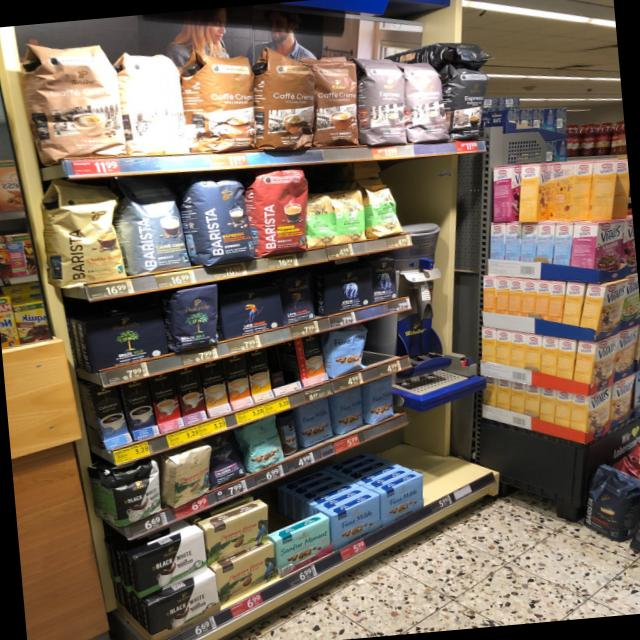AB Bohne: (370, 255, 399, 304)
AB Gemahlen: (324, 260, 376, 315)
Athiopien Bohne: (361, 180, 405, 240)
Athiopien Gemahlen: (303, 190, 342, 248), (336, 187, 368, 244)
BM Bohne: (166, 282, 222, 355)
BM Gemahlen: (85, 305, 170, 374)
BW Bohne: (98, 452, 168, 532)
BW Gemahlen: (127, 529, 209, 602), (145, 572, 221, 640)
Barista CB: (36, 176, 130, 286)
Barista CC: (111, 176, 192, 274)
Barista Espresso: (180, 176, 258, 271)
Barista Kolumbien: (244, 167, 312, 261)
CC Mild: (15, 34, 130, 167)
CC Vollmundig 36 Pads: (178, 45, 259, 157), (252, 41, 320, 155), (311, 50, 362, 150)
Colombia BB Bohne: (167, 444, 213, 511)
Colombia BB Gemahlen: (213, 541, 278, 606), (205, 503, 269, 566)
Empty Shelf: (407, 449, 486, 489), (364, 316, 398, 367)
Espresso Aromatisch: (354, 52, 409, 150), (399, 58, 451, 147)
Espresso S Art: (444, 58, 492, 142)
FM 36 Pads: (326, 322, 370, 381)
FM Bohne: (297, 396, 335, 449), (365, 374, 399, 428), (333, 385, 367, 437)
FM Gemahlen: (328, 492, 380, 553), (377, 472, 424, 528)
FM Instant: (276, 409, 303, 458)
LG Bohne: (275, 272, 317, 327)
LG Gemahlen: (218, 285, 285, 341)
SM Bohne: (232, 413, 289, 477)
SM Gemahlen: (272, 516, 333, 577)
Simo CCMild bigpack: (242, 346, 274, 404)
Simo CCVollmundig: (293, 333, 331, 388)
Simo CCVollmundig bigpack: (222, 352, 254, 411)
Simo Es Elegant: (146, 371, 186, 435)
Simo Es Kraft: (173, 364, 209, 426)
Simo Kaffee Kraft: (118, 377, 161, 442)
Simo Kaffee Mild: (90, 387, 132, 451)
